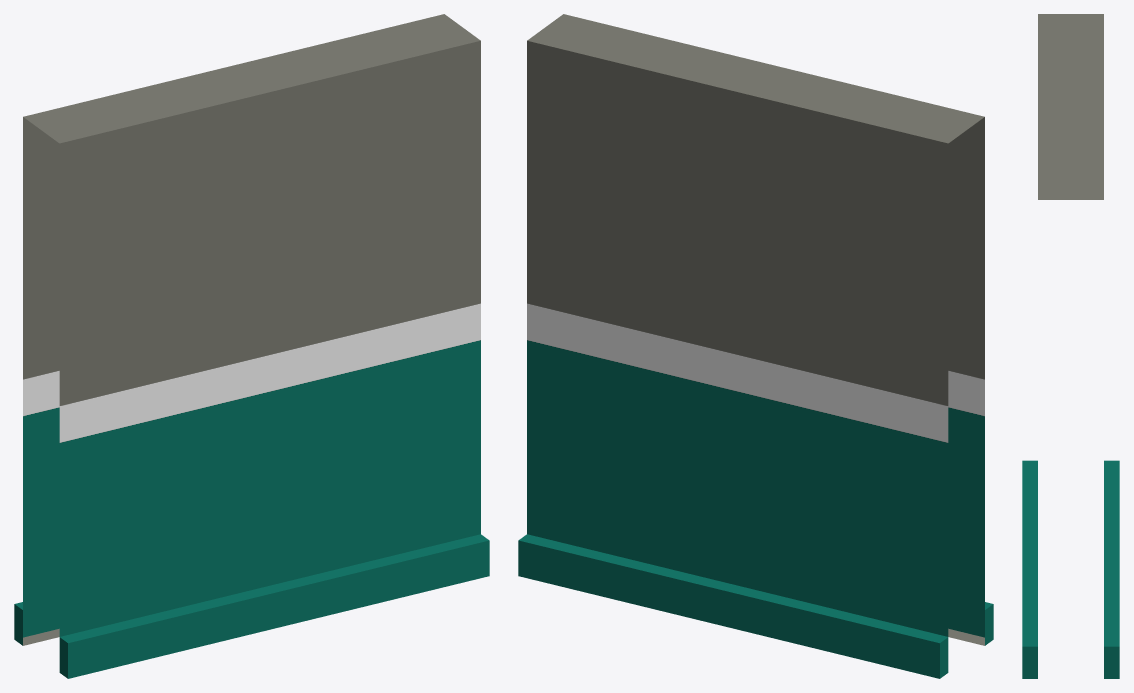
File: IndoorWallStraight.fbx
3 views of the same model, side by side, from view 1: azimuth 30°, elevation 25°; view 2: azimuth 150°, elevation 25°; view 3: azimuth 270°, elevation 25° (orthographic). The views are drawn at different scales.
Visible parts, largest first — view 1: InoorWall_Straight; view 2: InoorWall_Straight; view 3: InoorWall_Straight.
Part boxes in pixels (bbox=[...]): InoorWall_Straight: bbox=[14, 14, 489, 678]; InoorWall_Straight: bbox=[518, 14, 993, 678]; InoorWall_Straight: bbox=[1022, 14, 1119, 678].
Bounding box in the file's own units: 2 × 0.441 × 2.4.
1 material, 1 textured.
